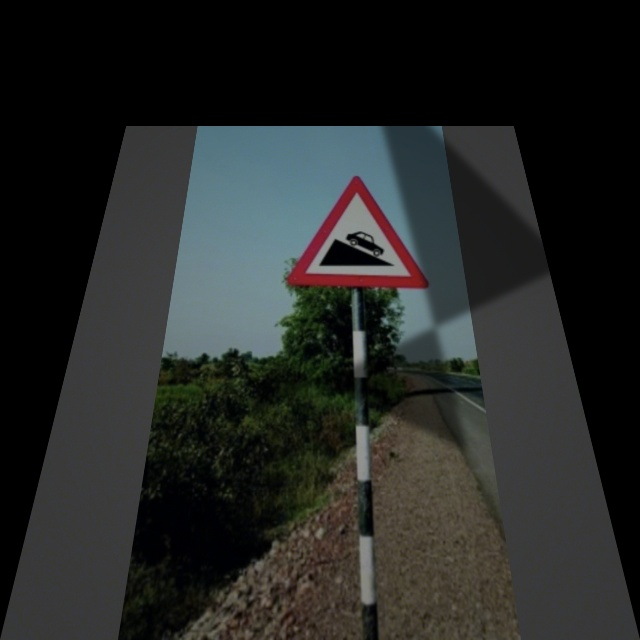Steep_Descent: (290, 175, 429, 291)
